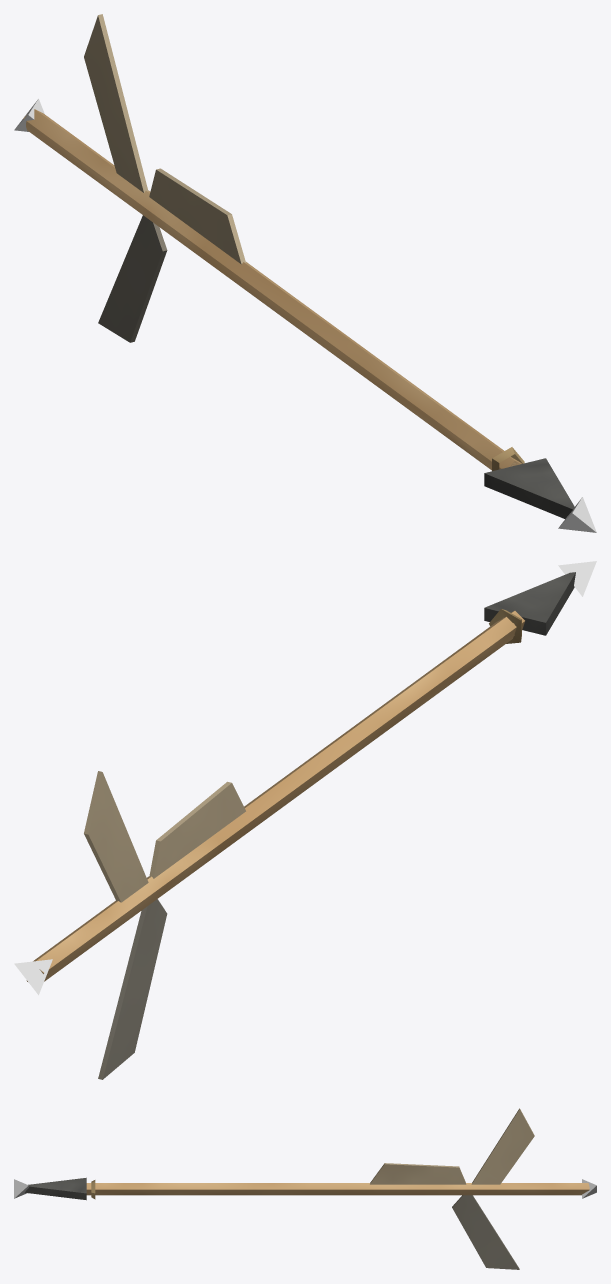
Rendered from SM_Arrow.fbx.
The picture shows the model from 3 angles, top to bottom: view 1: azimuth 30°, elevation 25°; view 2: azimuth 150°, elevation 25°; view 3: azimuth 270°, elevation 25°; orthographic projection. The views are drawn at different scales.
Parts seen in each view (by area): view 1: SM_Arrow, Tip_Att; view 2: SM_Arrow, Nock_Att; view 3: SM_Arrow.
Boxes of the visible parts, x1,y1,x2,y2 form: SM_Arrow: (23,14,574,518); Tip_Att: (558,497,596,532); SM_Arrow: (26,572,575,1079); Nock_Att: (14,959,52,995); SM_Arrow: (25,1108,589,1269).
Bounding box in the file's own units: 0.2 × 0.9526 × 3.13.
Materials: 1 (1 with a texture image).
